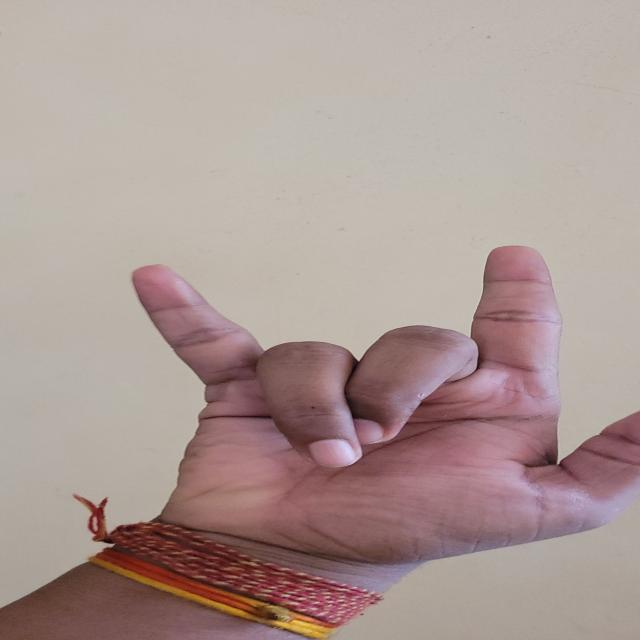i like you: (25, 220, 640, 558)
